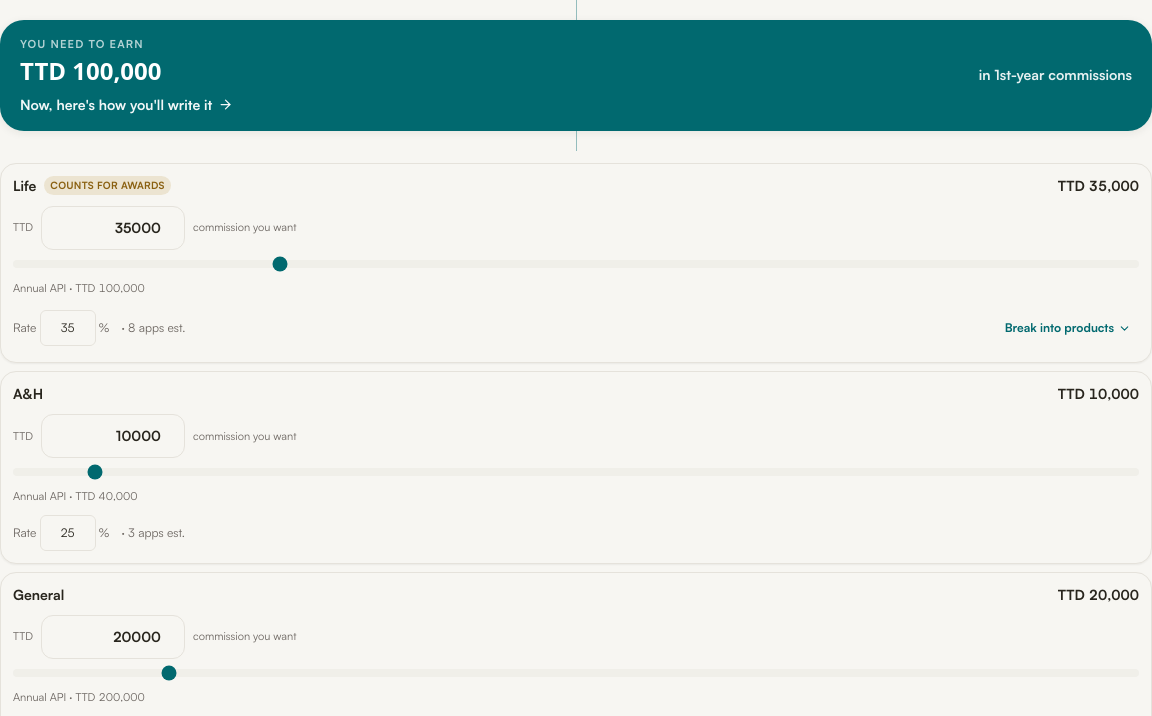
Test: MoneyNeedsAllocator — commission-first input model › drag slider (API) → commission derives (api × rate)
The image size is (1152, 716).
Set the slider with test id "alloc-line-slider-life" to "150000" at [410, 264], box [13, 260, 1139, 268]
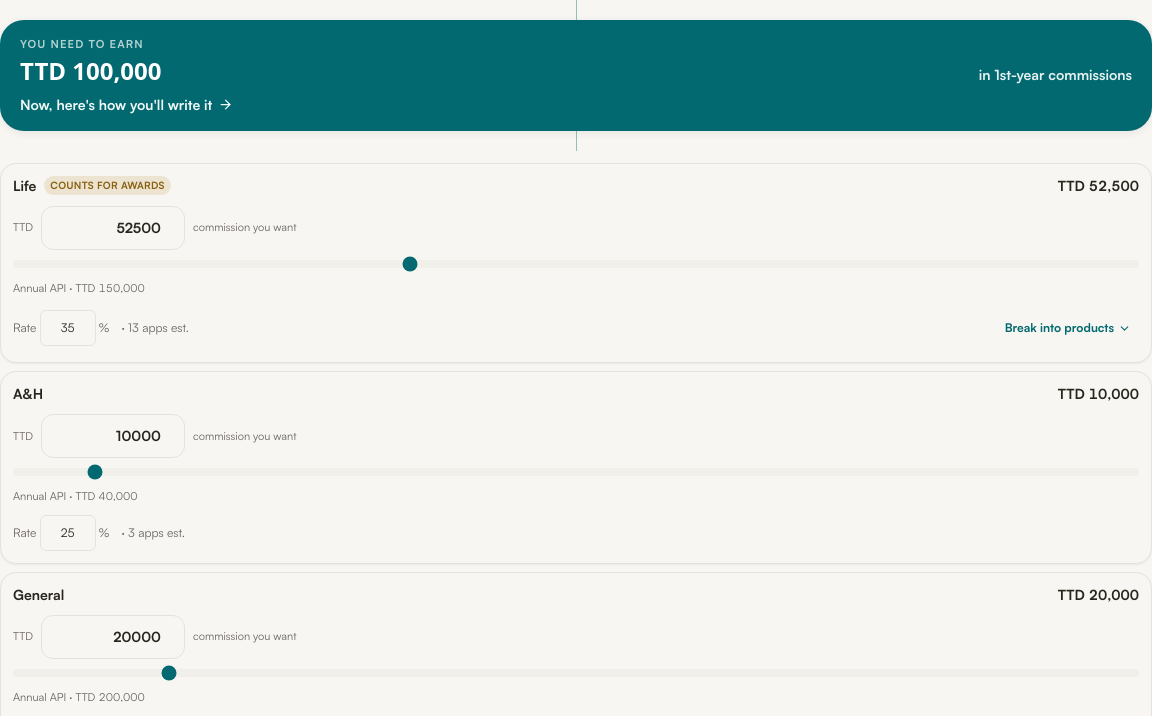
Expected: the number field with test id "alloc-line-commission-input-life" holds "52500", [41, 206, 185, 250]
Expected: the text "Annual API · TTD 150,000" is shown, [13, 280, 145, 294]
